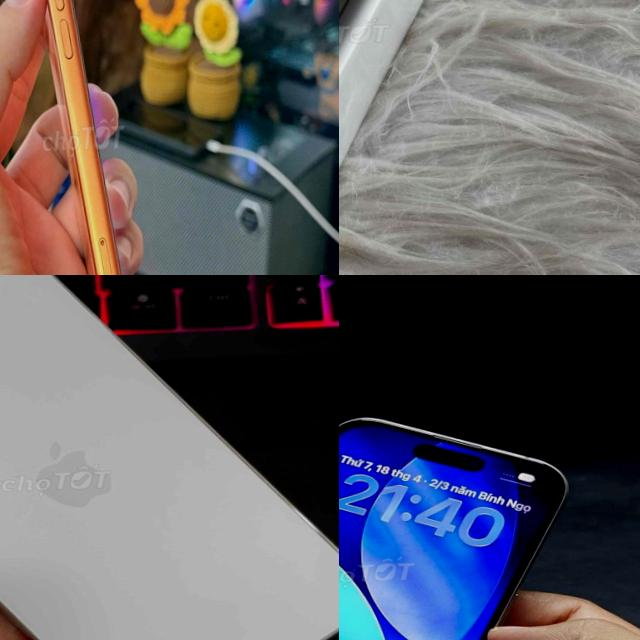gen_14: (0, 275, 339, 640)
gen_15: (339, 397, 583, 640)
gen_17: (9, 0, 158, 275)
gen_x_xs: (339, 0, 424, 168)
